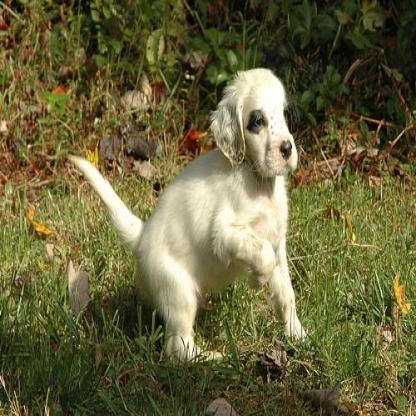English_setter: (66, 65, 313, 362)
